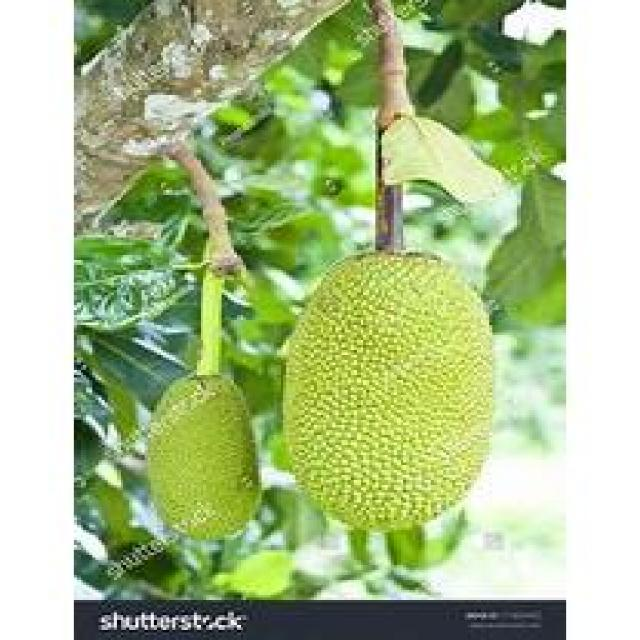Fruit: (268, 235, 504, 545), (142, 370, 268, 548)
